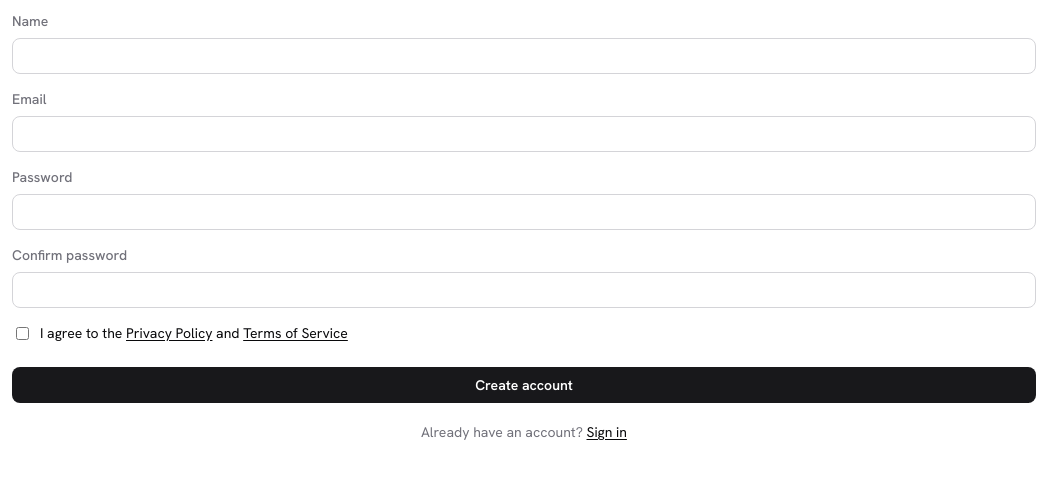
Test: the sign-up form › shows the server’s own words when the password breaks the rules
This screenshot has width=1048, height=491.
Type "Ada Lovelace" into the field labelled "Name" at coordinates (524, 56), box [12,38,1036,74]
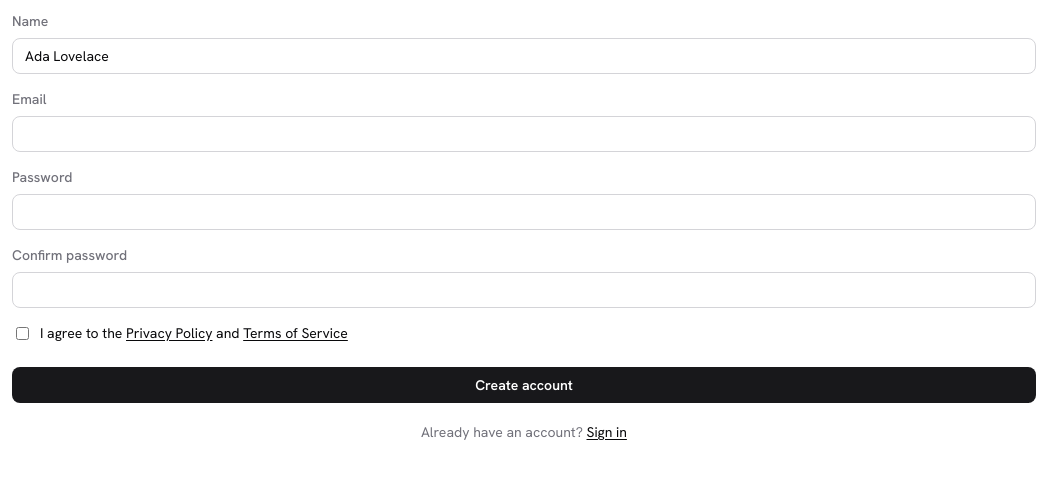
Type "ada@sovereign.local" into the field labelled "Email" at coordinates (524, 134), box [12,116,1036,152]
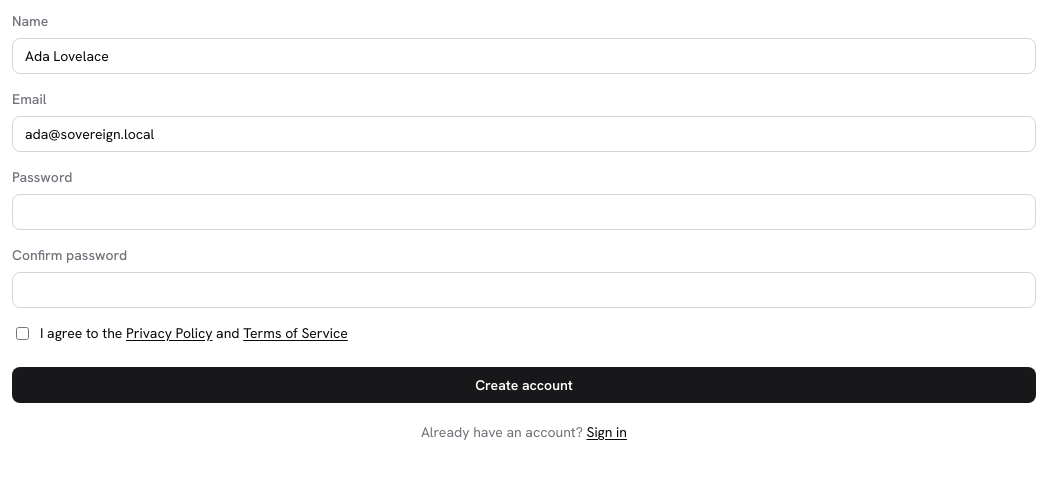
Type "correct horse battery" into the password field labelled "Password" at coordinates (524, 212), box [12,194,1036,230]
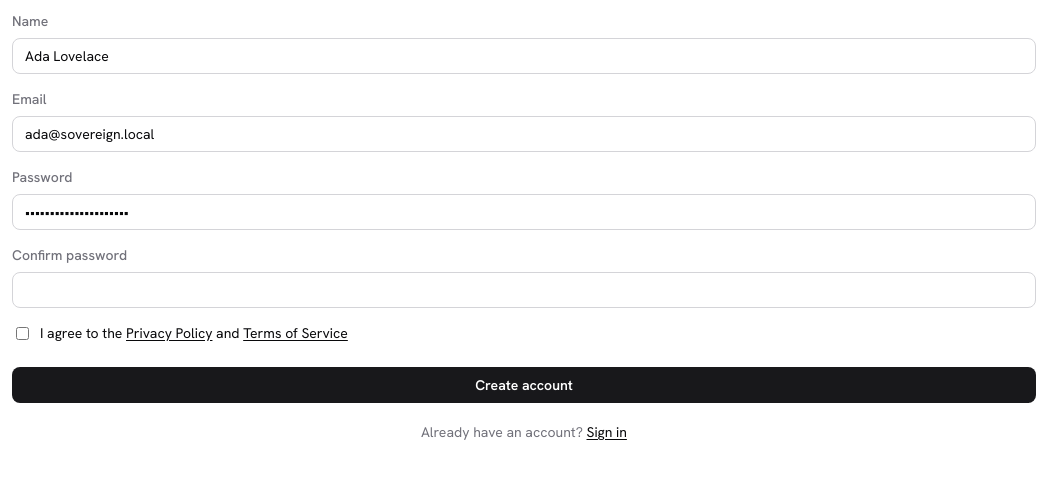
Type "correct horse battery" into the password field labelled "Confirm password" at coordinates (524, 290), box [12,272,1036,308]
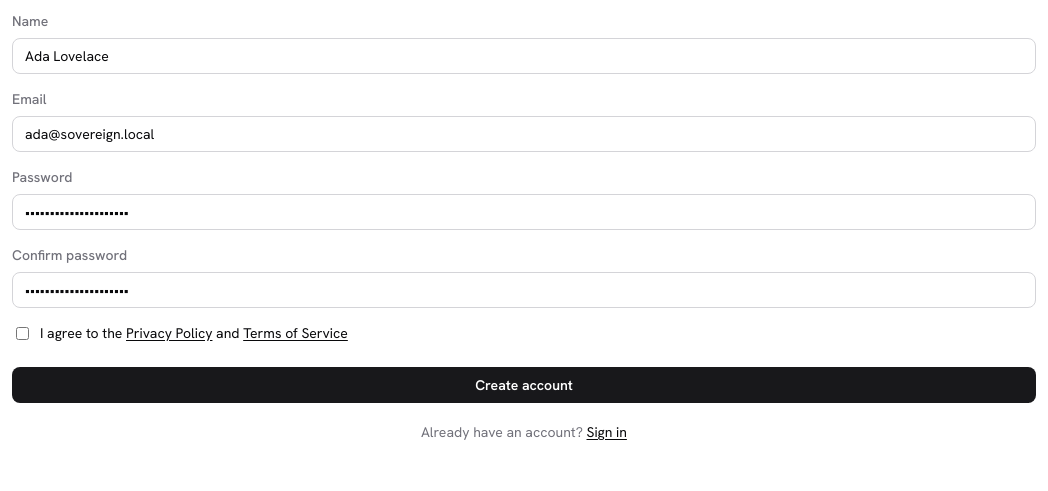
Click the checkbox labelled "I agree to the Privacy Policy and Terms of Service" at coordinates (22, 334), box [16,327,29,340]
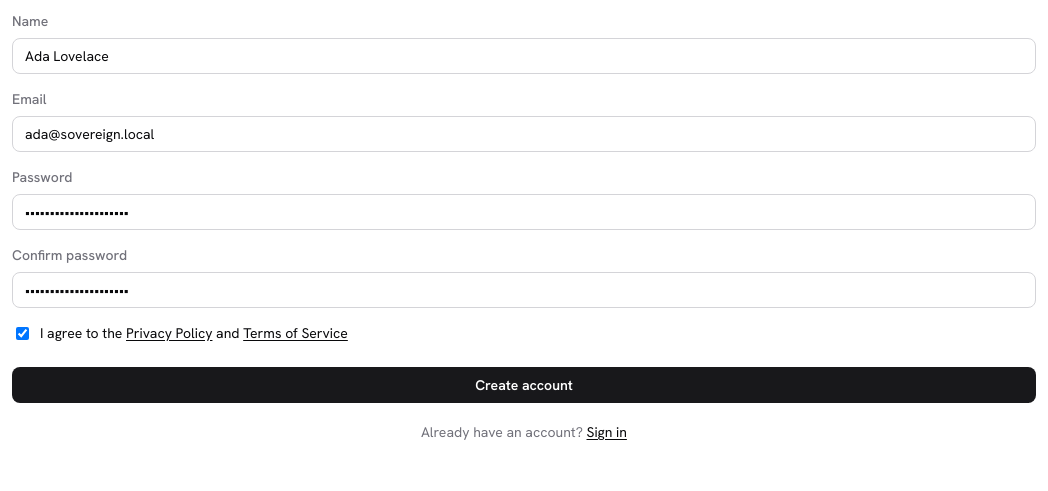
Click the button "Create account" at coordinates (524, 385), box [12,367,1036,403]
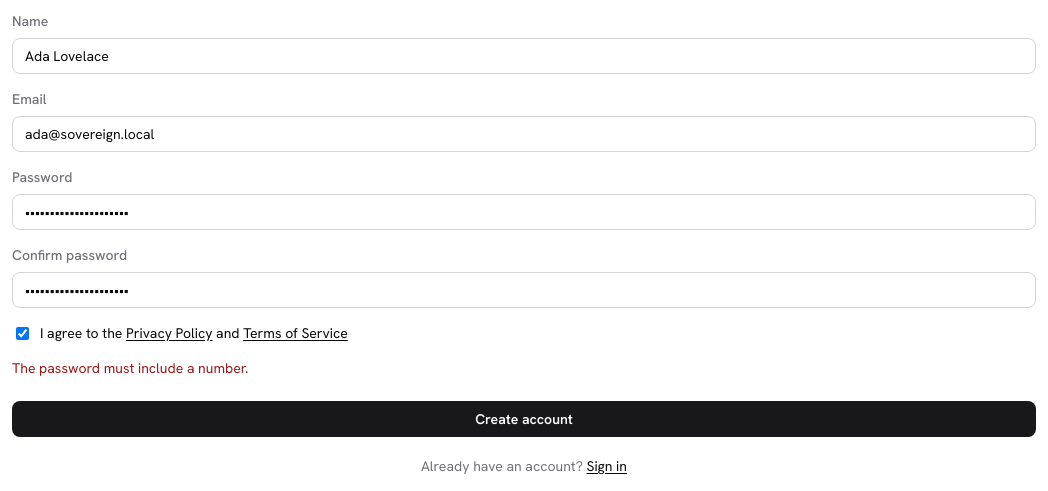
Result: the text "The password must include a number." is shown at [12,359,248,377]
